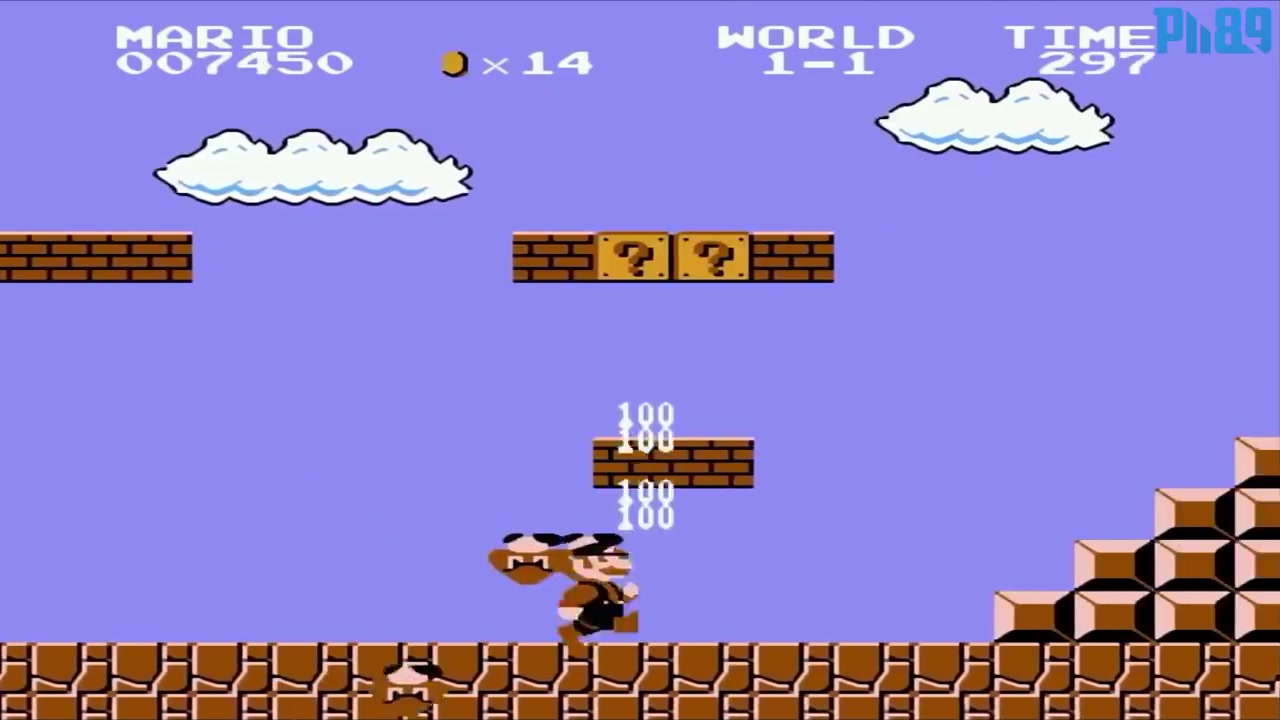mario: (542, 530, 646, 643)
